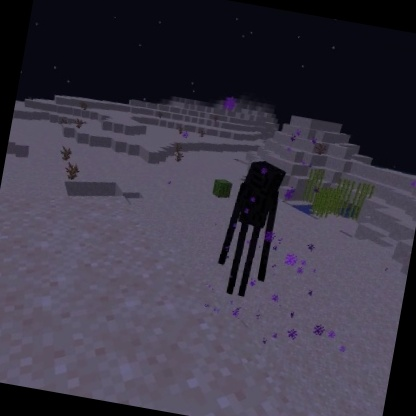enderman: (209, 153, 292, 304)
